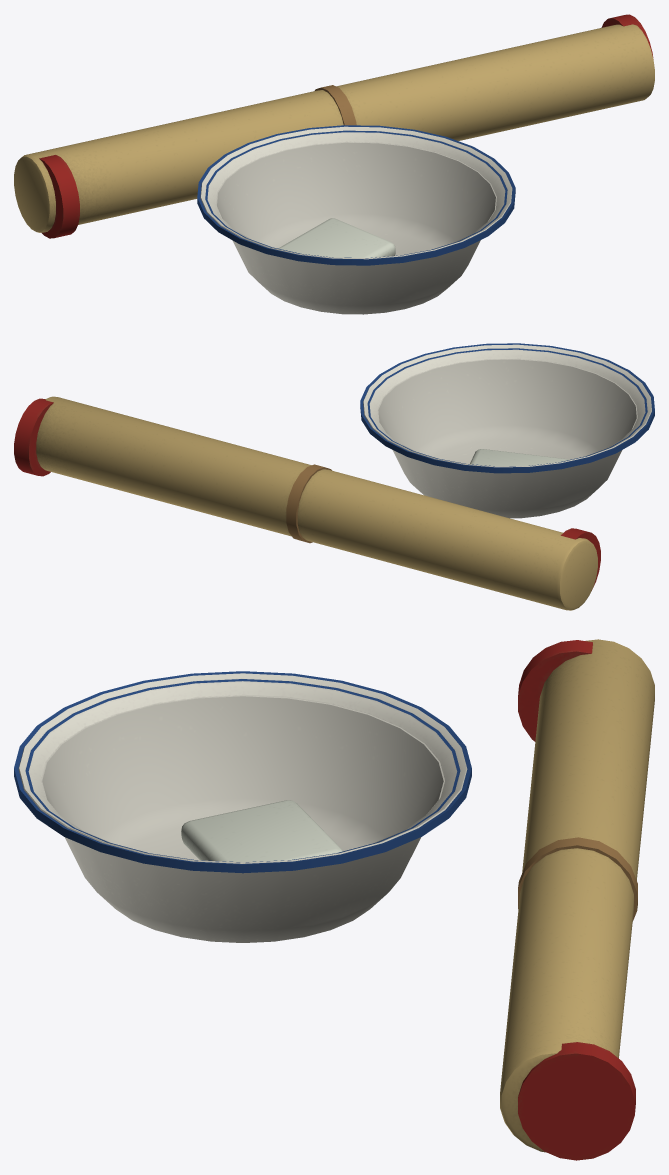
Rendered from CTCC_PROP_WashbasinAndMat.fbx.
3 renders of one model, top to bottom at view 1: azimuth 30°, elevation 25°; view 2: azimuth 150°, elevation 25°; view 3: azimuth 270°, elevation 25°, orthographic. The views are drawn at different scales.
Parts seen in each view (by area): view 1: CTCC_PROP_WashbasinAndMat_LOD0; view 2: CTCC_PROP_WashbasinAndMat_LOD0; view 3: CTCC_PROP_WashbasinAndMat_LOD0.
Part boxes in pixels (left/top/right/bottom): CTCC_PROP_WashbasinAndMat_LOD0: left=14, top=14, right=654, bottom=314; CTCC_PROP_WashbasinAndMat_LOD0: left=14, top=343, right=654, bottom=610; CTCC_PROP_WashbasinAndMat_LOD0: left=14, top=639, right=654, bottom=1160.
Size of what is drawn, in the model's own units: 0.9502 by 0.124 by 0.6131.
